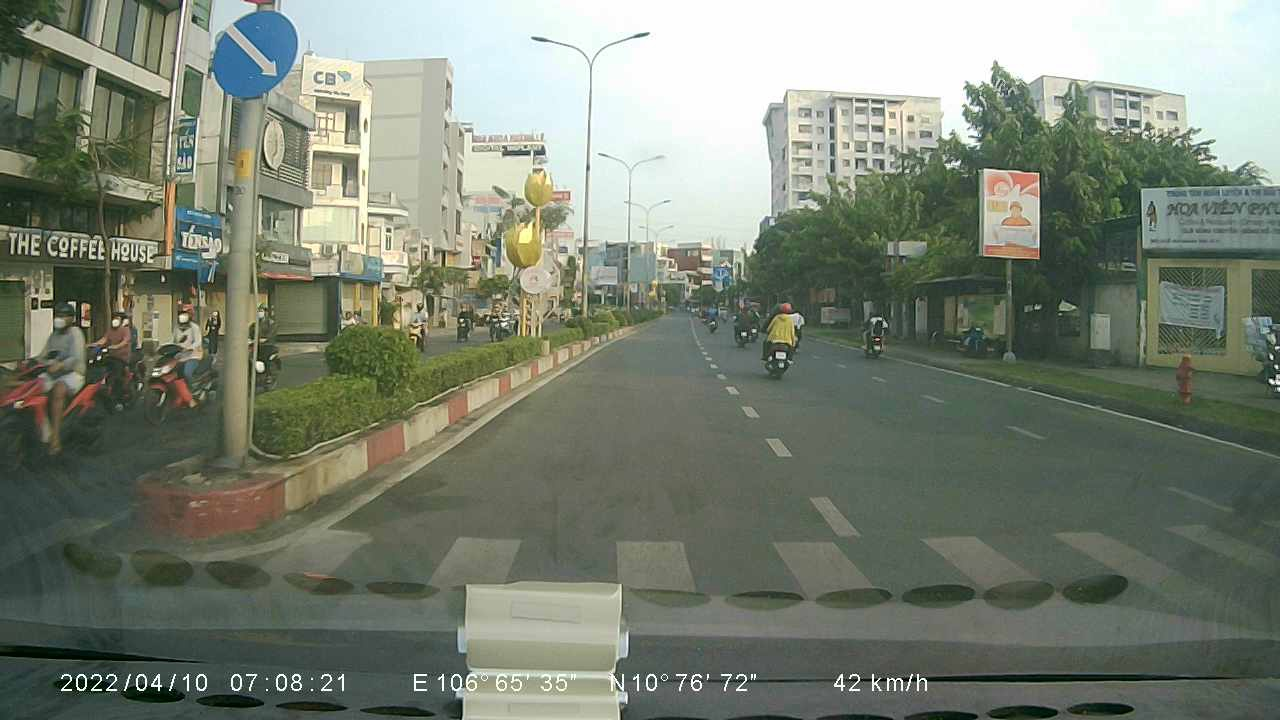Huong di phai re phai: (207, 7, 300, 98)
